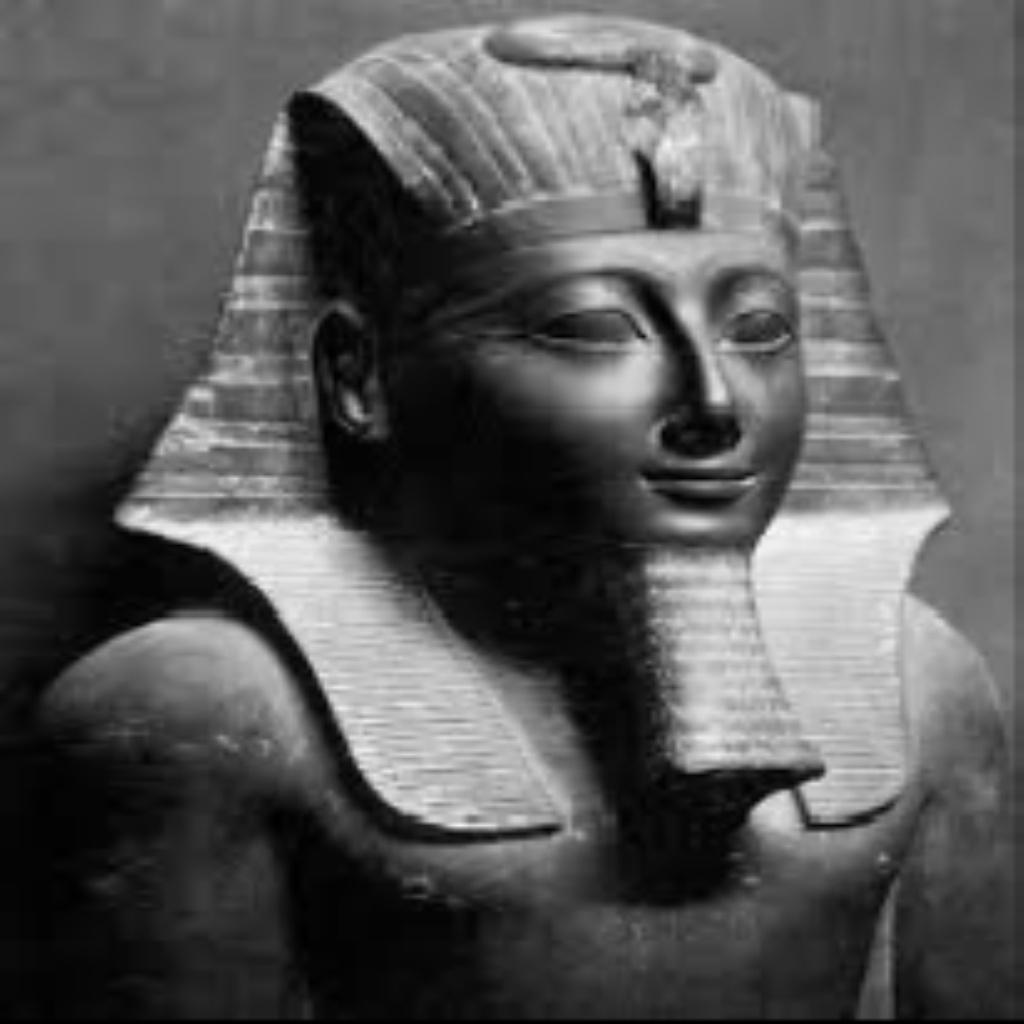King Thutmose III: (15, 4, 1019, 1016)
